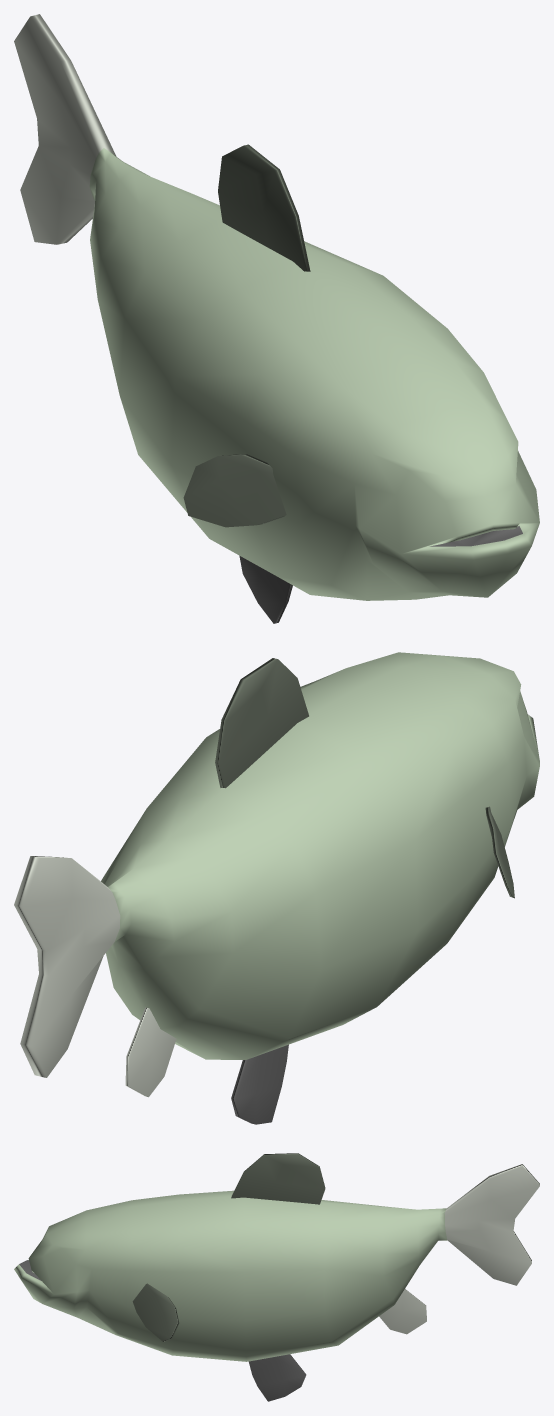
File: fish3.fbx
3 views of the same model, one above another, from view 1: azimuth 30°, elevation 25°; view 2: azimuth 150°, elevation 25°; view 3: azimuth 270°, elevation 25° (orthographic). The views are drawn at different scales.
Visible parts, largest first — view 1: fish3; view 2: fish3; view 3: fish3.
Boxes of the visible parts, bbox=[...] form: fish3: bbox=[14, 14, 539, 623]; fish3: bbox=[14, 652, 539, 1124]; fish3: bbox=[14, 1153, 539, 1401].
Size of the model in its own units: 18.14 by 25.31 by 48.92.
